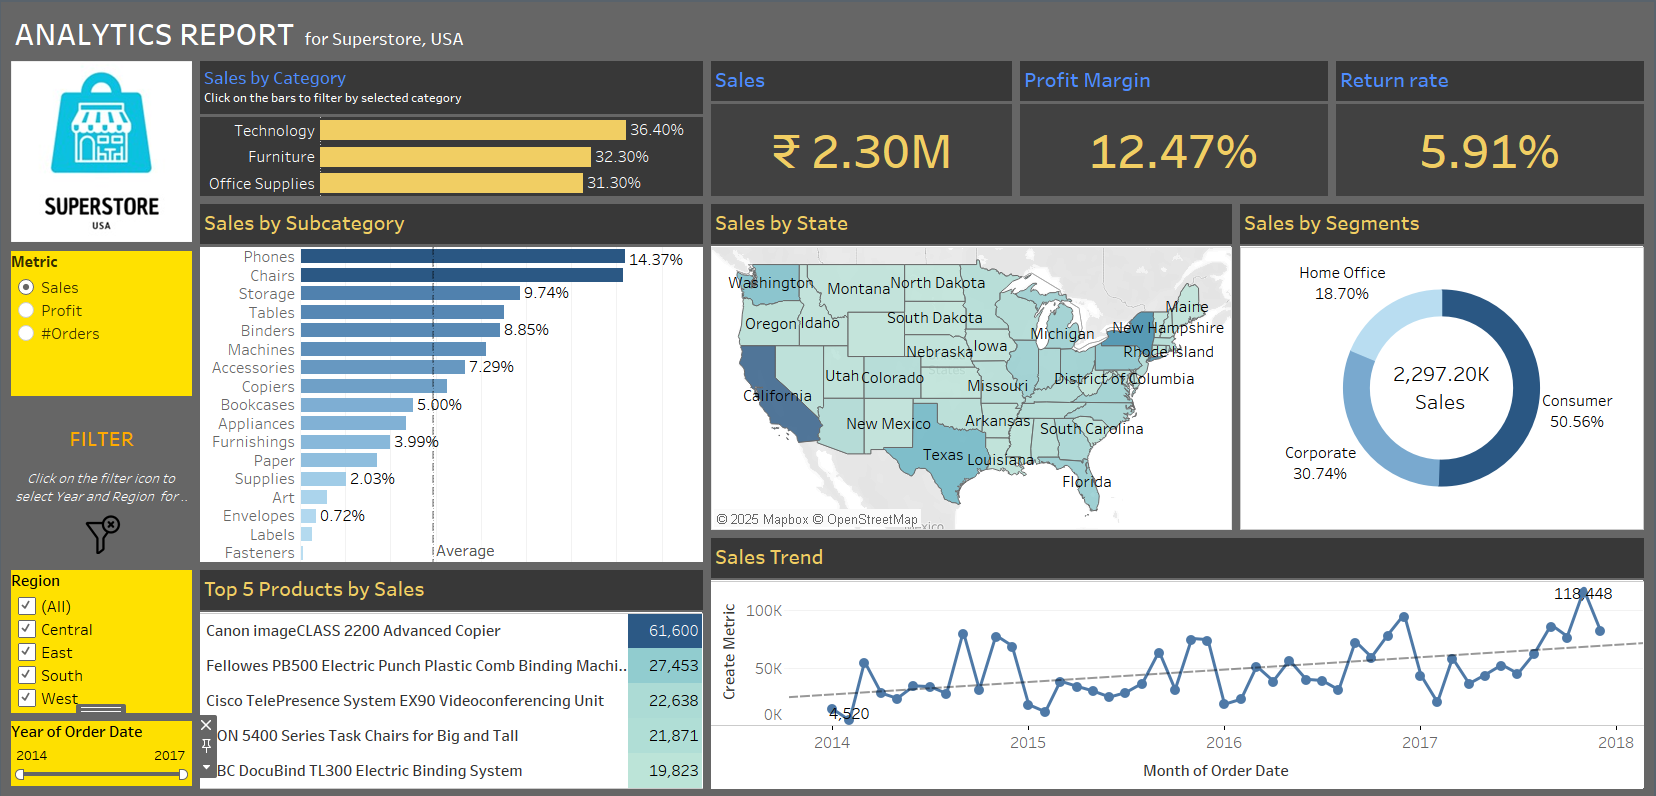

The dashboard page shown, as its layout file describes it:
{"tool":"tableau","page":{"name":"Assignment 7","canvas":[1000,1000],"units":"permille","ordinal":0},"visuals":[{"type":"title","box":[4.8,10,990.3,61.2]},{"type":"image","param":"Image/Picture3.jpg","box":[4.8,71.2,114.3,237.2]},{"type":"worksheet","title":"Metric Category","mark":"Automatic","rows":["Category"],"cols":["Calculation_1296192273791336450"],"box":[119.1,71.2,308.3,178.5]},{"type":"worksheet","title":"Sales","mark":"Automatic","box":[427.4,71.2,186.3,178.2]},{"type":"worksheet","title":"Profit Margin","mark":"Automatic","box":[613.7,71.2,191,178.2]},{"type":"worksheet","title":"Return rate","mark":"Automatic","box":[804.7,71.2,190.5,178.2]},{"type":"worksheet","title":"Sales by State","mark":"Automatic","box":[427.4,249.4,319.1,417.2]},{"type":"worksheet","title":"Donut chart","mark":"Pie","rows":["Calculation_1296192273826336772","Calculation_1296192273826336772"],"box":[746.5,249.4,248.7,417.2]},{"type":"worksheet","title":"Metric by Subcategory","mark":"Automatic","rows":["Sub-Category"],"cols":["Calculation_1296192273791336450"],"box":[119.1,249.7,308.3,456.9]},{"type":"parameter","param":"[Parameters].[Parameter 2]","box":[4.8,308.3,114.3,191]},{"type":"text","box":[4.8,499.3,114.3,71.2]},{"type":"text","box":[4.8,570.5,114.3,74.9]},{"type":"dashboard-object","box":[23,643,78.4,48.7]},{"type":"worksheet","title":"Line__","mark":"Automatic","rows":["Calculation_1296192273791336450","Calculation_1296192273791336450"],"cols":["Order Date"],"box":[427.4,666.6,567.7,323.4]},{"type":"filter","title":"Sales by State","param":"[federated.1m59s4t16hgfot12h94cd0ft9qio].[none:Region:nk]","box":[4.8,706.6,114.3,188.5]},{"type":"worksheet","title":"Top 5 Metric products","mark":"Square","rows":["Product Name"],"box":[119.1,706.6,308.3,283.4]},{"type":"filter","title":"Line__","param":"[federated.1m59s4t16hgfot12h94cd0ft9qio].[tmn:Order Date:qk]","box":[4.8,895.1,114.3,91.1]}]}

Visuals, with their boxes on the dashboard's canvas, which has no fixed pixel size, in thousandths of its width and height (x1, y1, x2, y2). These are canvas units, not pixel positions in the 1656x796 screenshot, which may show the page scaled, cropped or inside an application window:
title: 5 10 995 71
image: 5 71 119 308
"Metric Category" worksheet: 119 71 427 250
"Sales" worksheet: 427 71 614 249
"Profit Margin" worksheet: 614 71 805 249
"Return rate" worksheet: 805 71 995 249
"Sales by State" worksheet: 427 249 746 667
"Donut chart" worksheet (Pie marks): 746 249 995 667
"Metric by Subcategory" worksheet: 119 250 427 707
parameter: 5 308 119 499
text: 5 499 119 570
text: 5 570 119 645
dashboard-object: 23 643 101 692
"Line__" worksheet: 427 667 995 990
"Sales by State" filter: 5 707 119 895
"Top 5 Metric products" worksheet (Square marks): 119 707 427 990
"Line__" filter: 5 895 119 986
